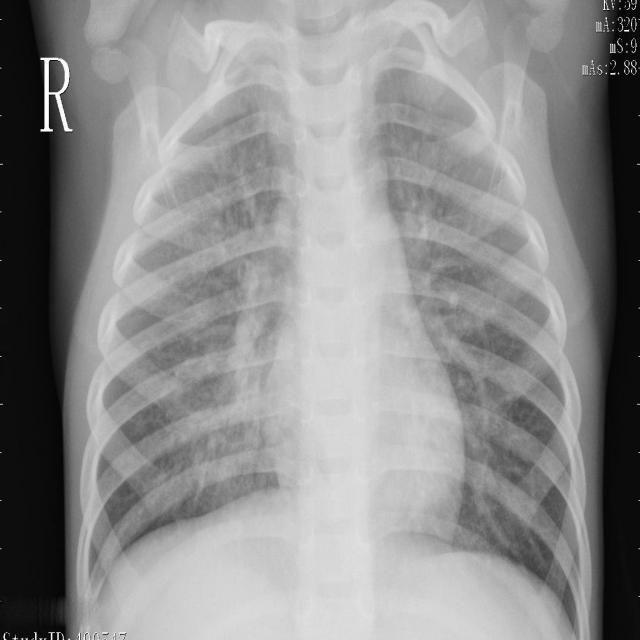viral_pneumonia: (0, 4, 640, 640)
